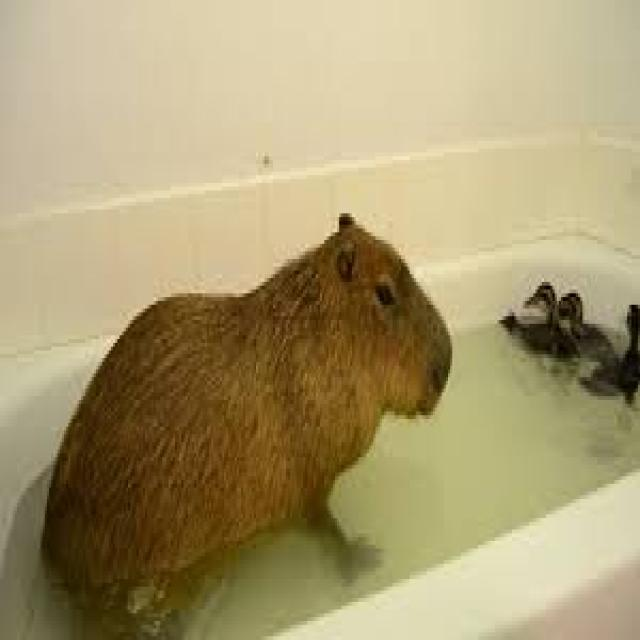capy: (41, 210, 453, 640)
